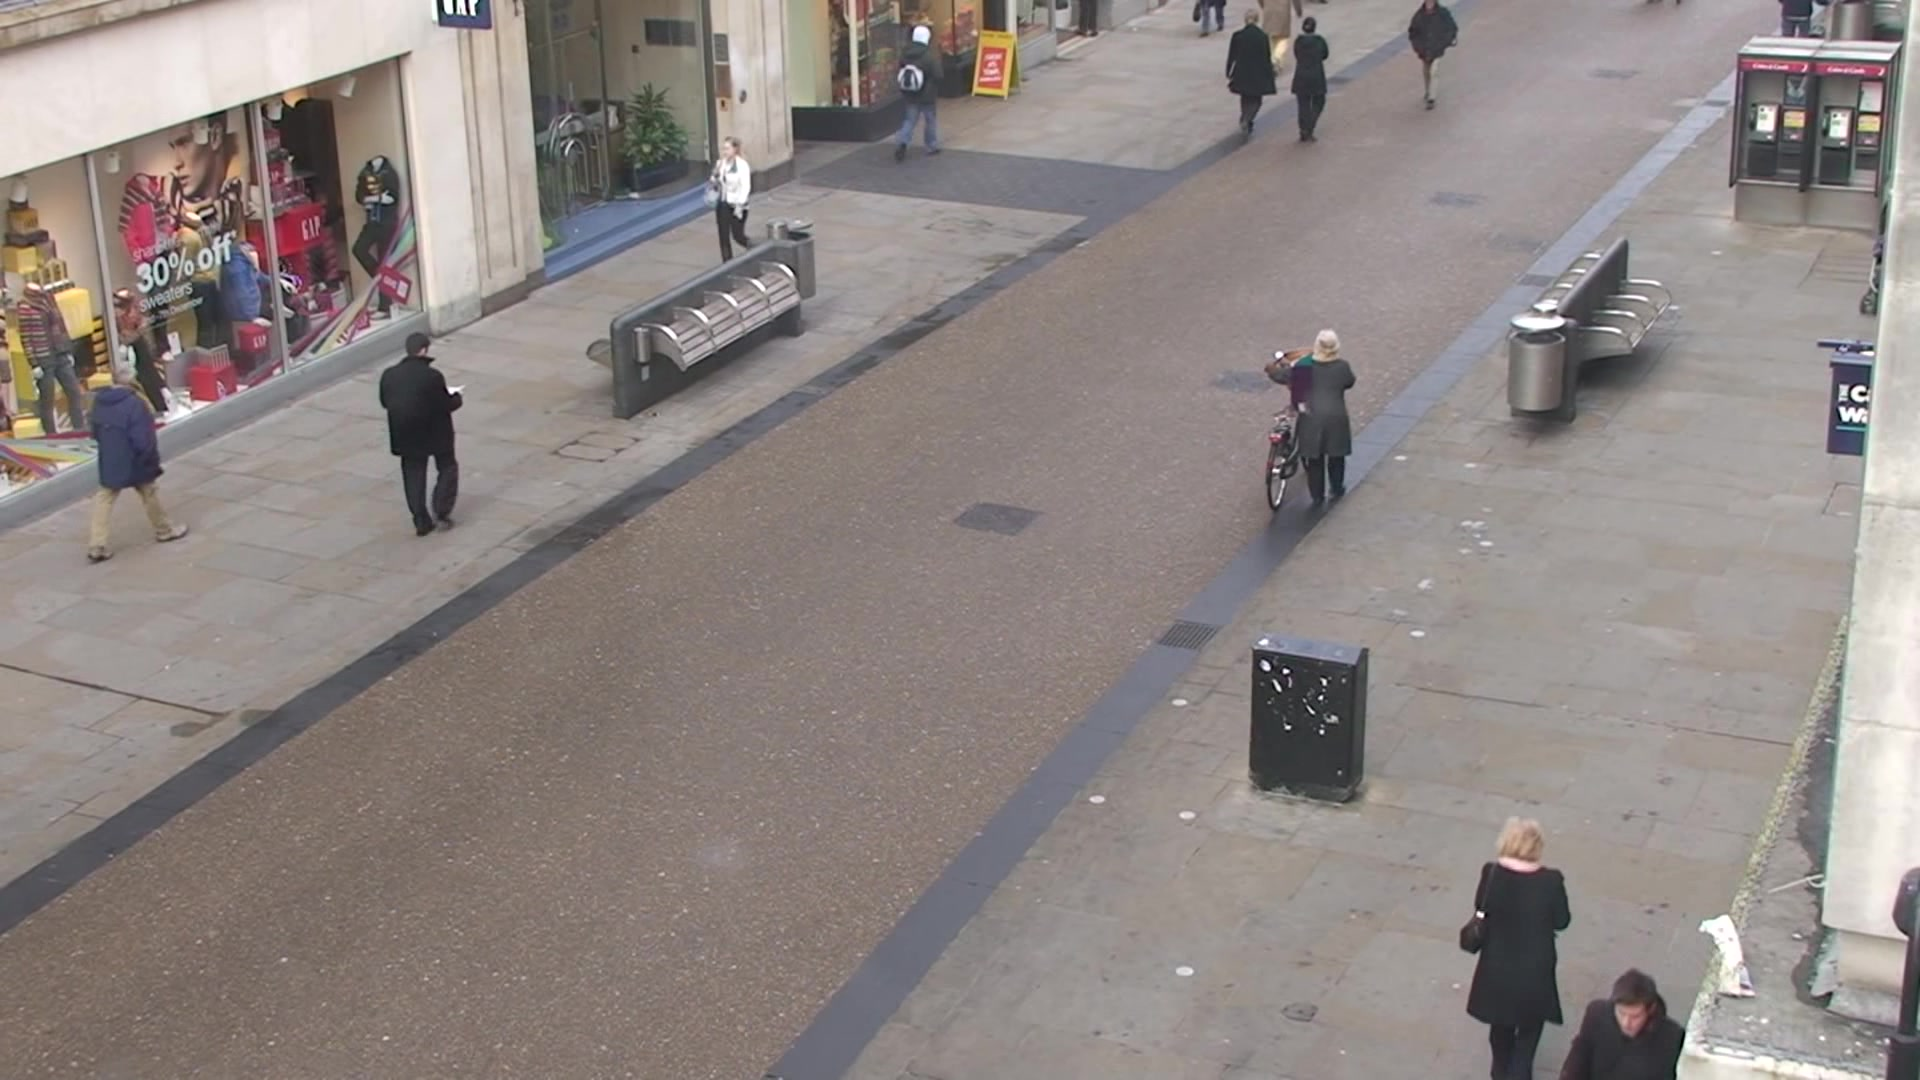person: (1457, 816, 1571, 1080), (86, 362, 189, 566), (377, 333, 465, 540), (1261, 329, 1356, 504), (889, 24, 945, 165), (698, 135, 754, 263), (1224, 6, 1278, 140), (1291, 15, 1328, 147)
